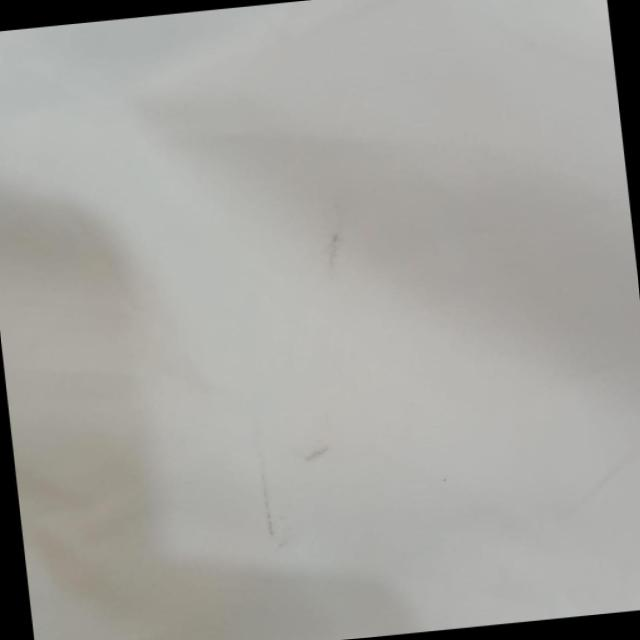stain: (234, 425, 358, 559), (298, 212, 374, 279)
